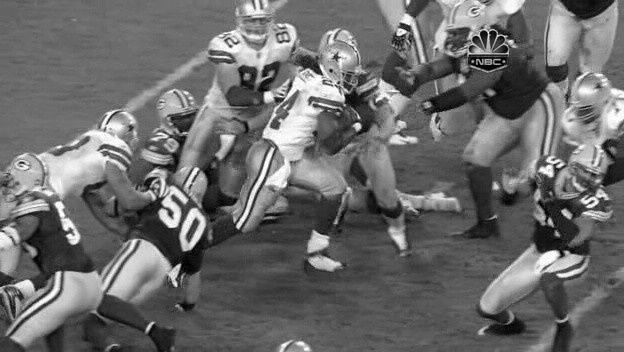person: (323, 45, 358, 89), (322, 45, 357, 89), (324, 45, 359, 89), (323, 44, 358, 88), (323, 46, 358, 90)
target_negative: (192, 140, 439, 228), (549, 10, 573, 296), (431, 286, 515, 335), (590, 235, 614, 279), (169, 311, 203, 324), (451, 300, 454, 345)
